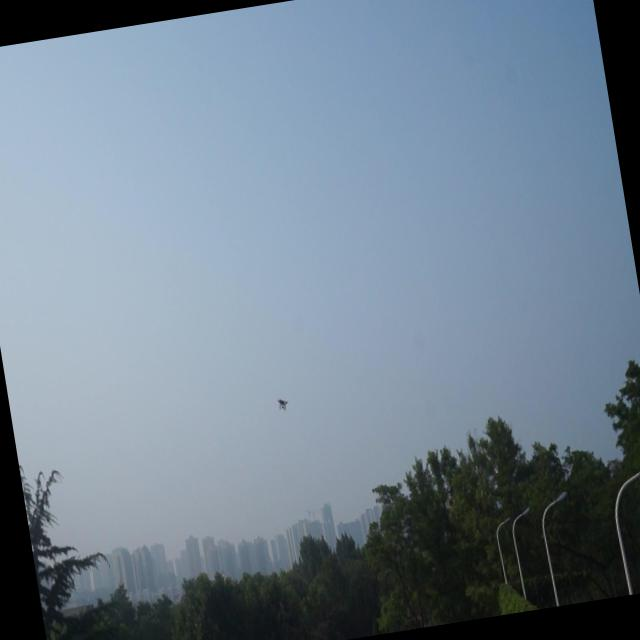drone: (275, 392, 292, 412)
